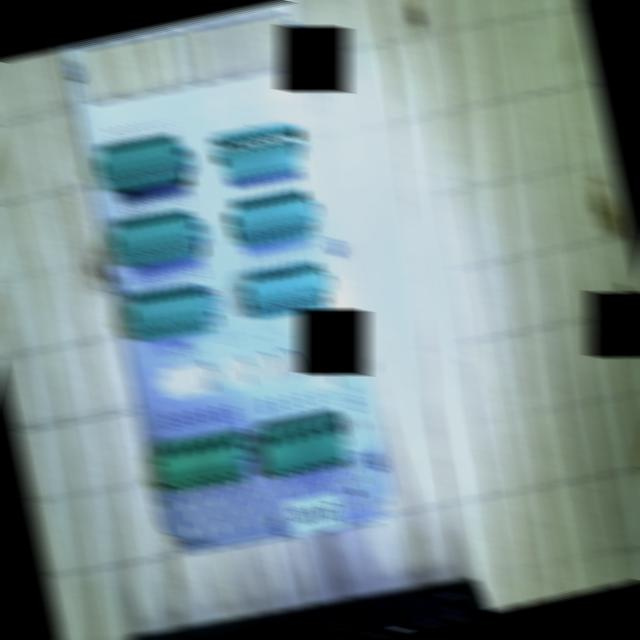Terminal_1: (258, 411, 350, 479), (154, 430, 246, 493)
Terminal_2: (95, 132, 184, 193), (110, 207, 198, 268), (229, 186, 315, 248), (125, 282, 213, 342), (243, 259, 329, 319)
